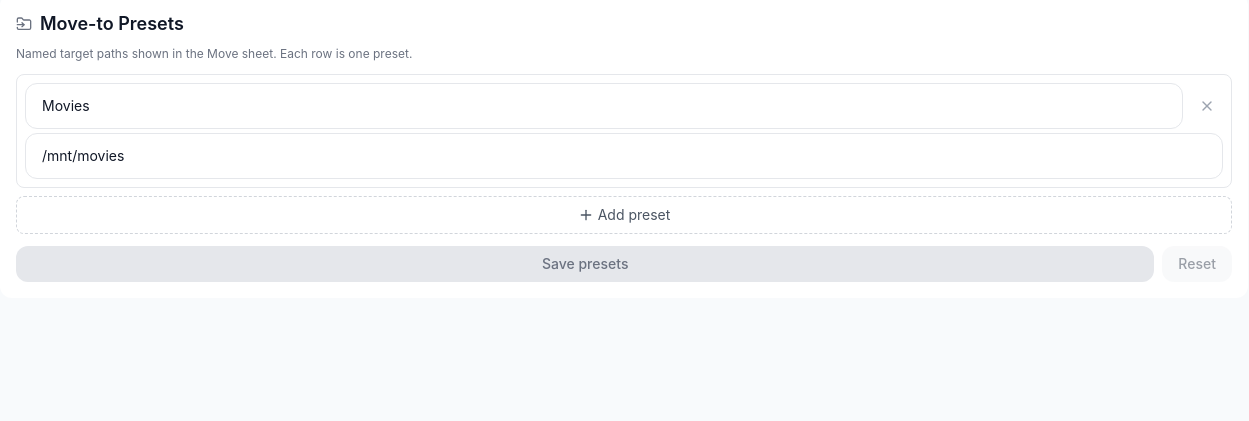
LocationPresetsCard › Add preset appends a blank row; Remove drops it
What coordinates should you click on to do the following:
click the button "Add preset"
I would click on:
 (624, 215)
Its box is [16,196,1232,234].
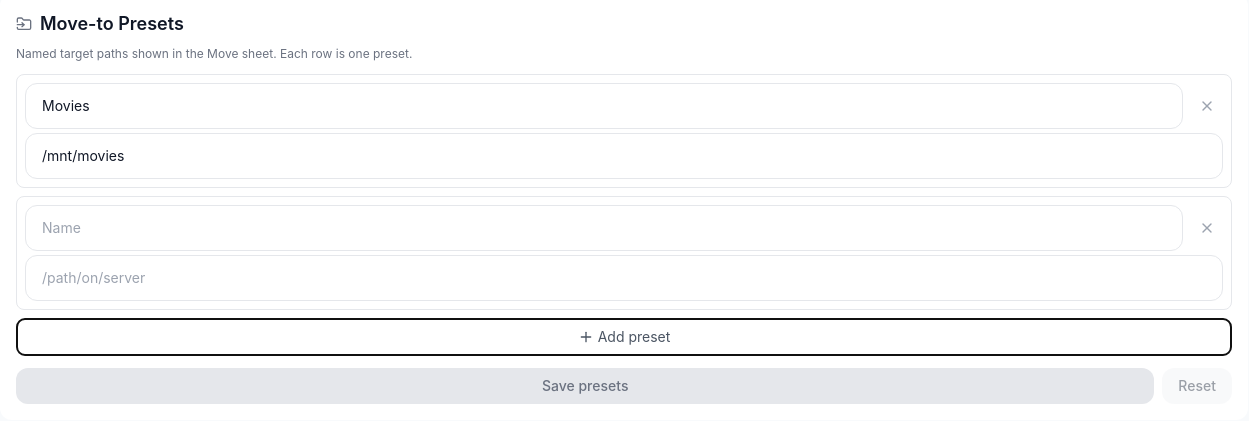
Result: the number of fields named "Preset name" is 2 at [25,83,1183,129]; [25,205,1183,251]
// Remove the first row.
What coordinates should you click on to do the following:
click the 1st button named "remove preset"
I would click on:
 (1207, 106)
Its box is [1191,90,1223,122].
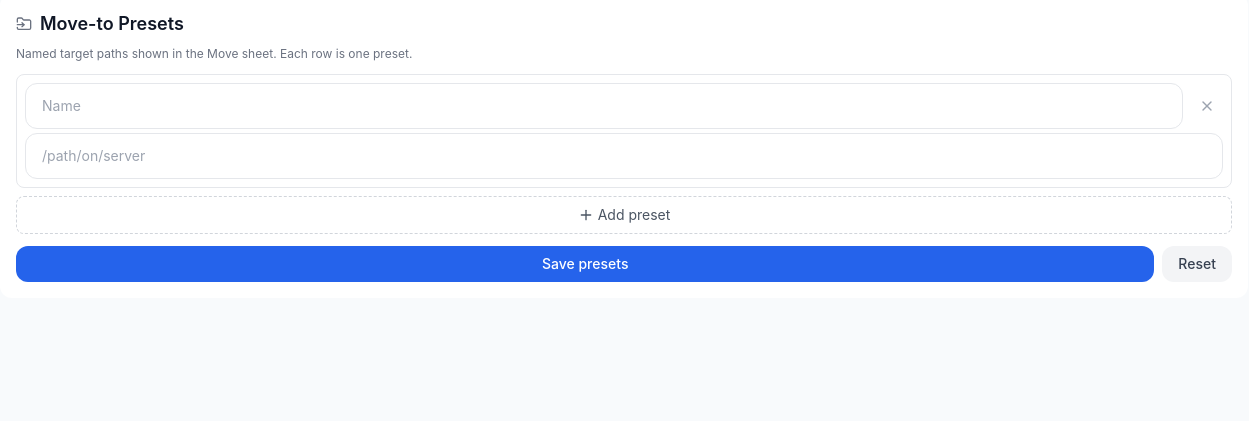
Result: the number of fields named "Preset name" is 1 at [25,83,1183,129]
